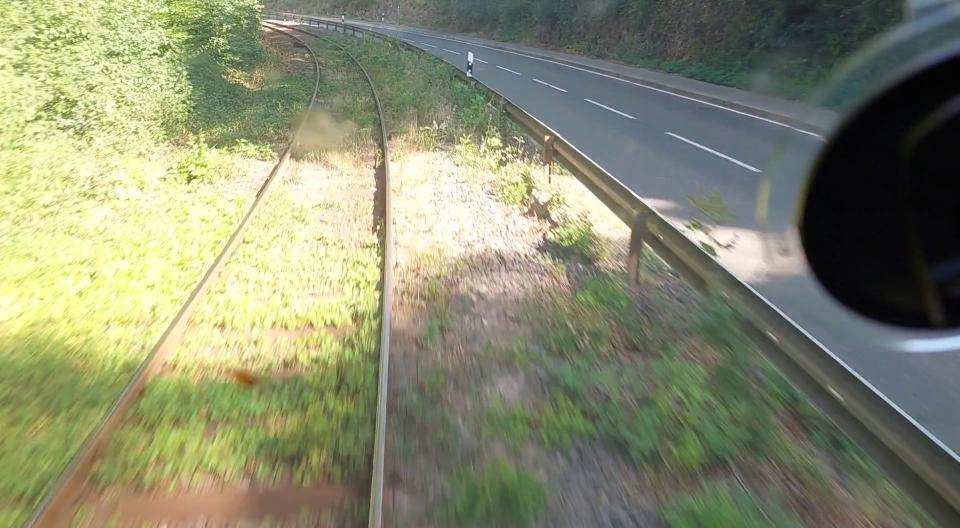Plant: (0, 74, 312, 528), (92, 54, 382, 492), (534, 271, 853, 487), (331, 35, 564, 216), (433, 459, 546, 528), (664, 478, 803, 528), (546, 214, 609, 264)
